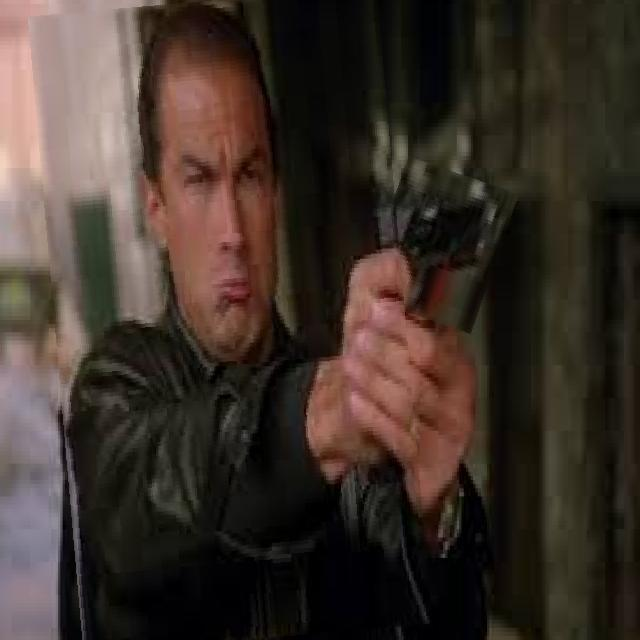Gun_Holder: (321, 149, 547, 422)
Jacket_Wearer: (72, 313, 485, 631)
Person: (72, 0, 476, 640)
